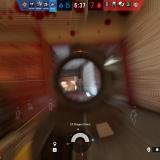Character: (76, 78, 84, 95)
Friend_label: (131, 105, 138, 111), (15, 106, 21, 112), (48, 98, 54, 104), (27, 100, 31, 104)
Head: (80, 78, 82, 81)
